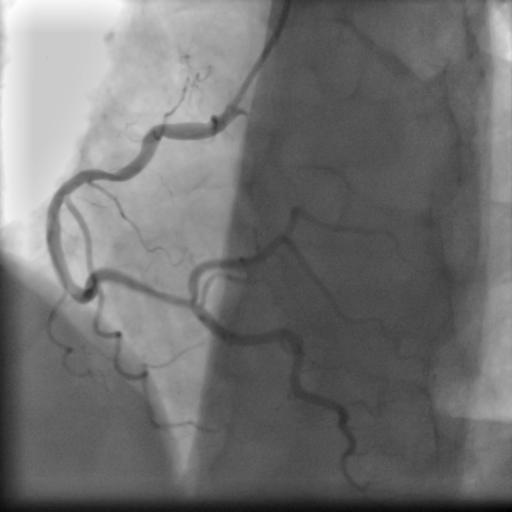Stenosis: (142, 275, 187, 317)
